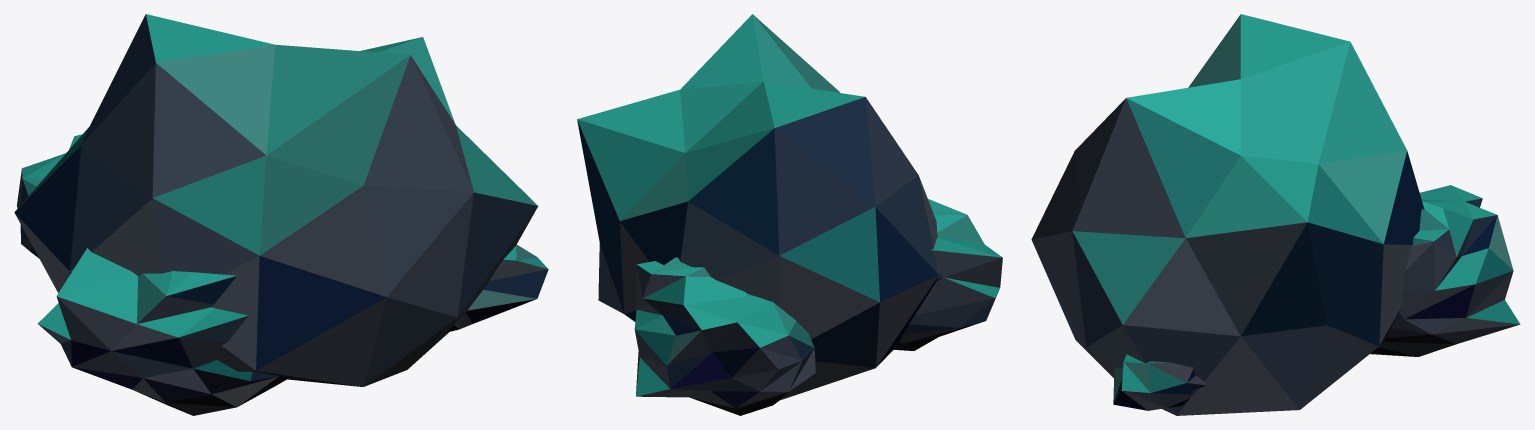
File: batu_boulder_basalt_197025.glb
3 renders of one model, left to right at view 1: azimuth 30°, elevation 25°; view 2: azimuth 150°, elevation 25°; view 3: azimuth 270°, elevation 25°, orthographic. The views are drawn at different scales.
Parts seen in each view (by area): view 1: Batu_Jeram_Sungai; view 2: Batu_Jeram_Sungai; view 3: Batu_Jeram_Sungai.
Boxes of the visible parts, x1,y1,x2,y2 form: Batu_Jeram_Sungai: [14, 14, 548, 415]; Batu_Jeram_Sungai: [577, 14, 1002, 415]; Batu_Jeram_Sungai: [1031, 14, 1520, 415].
Size of the model in its own units: 6.68 by 4.41 by 6.42.
